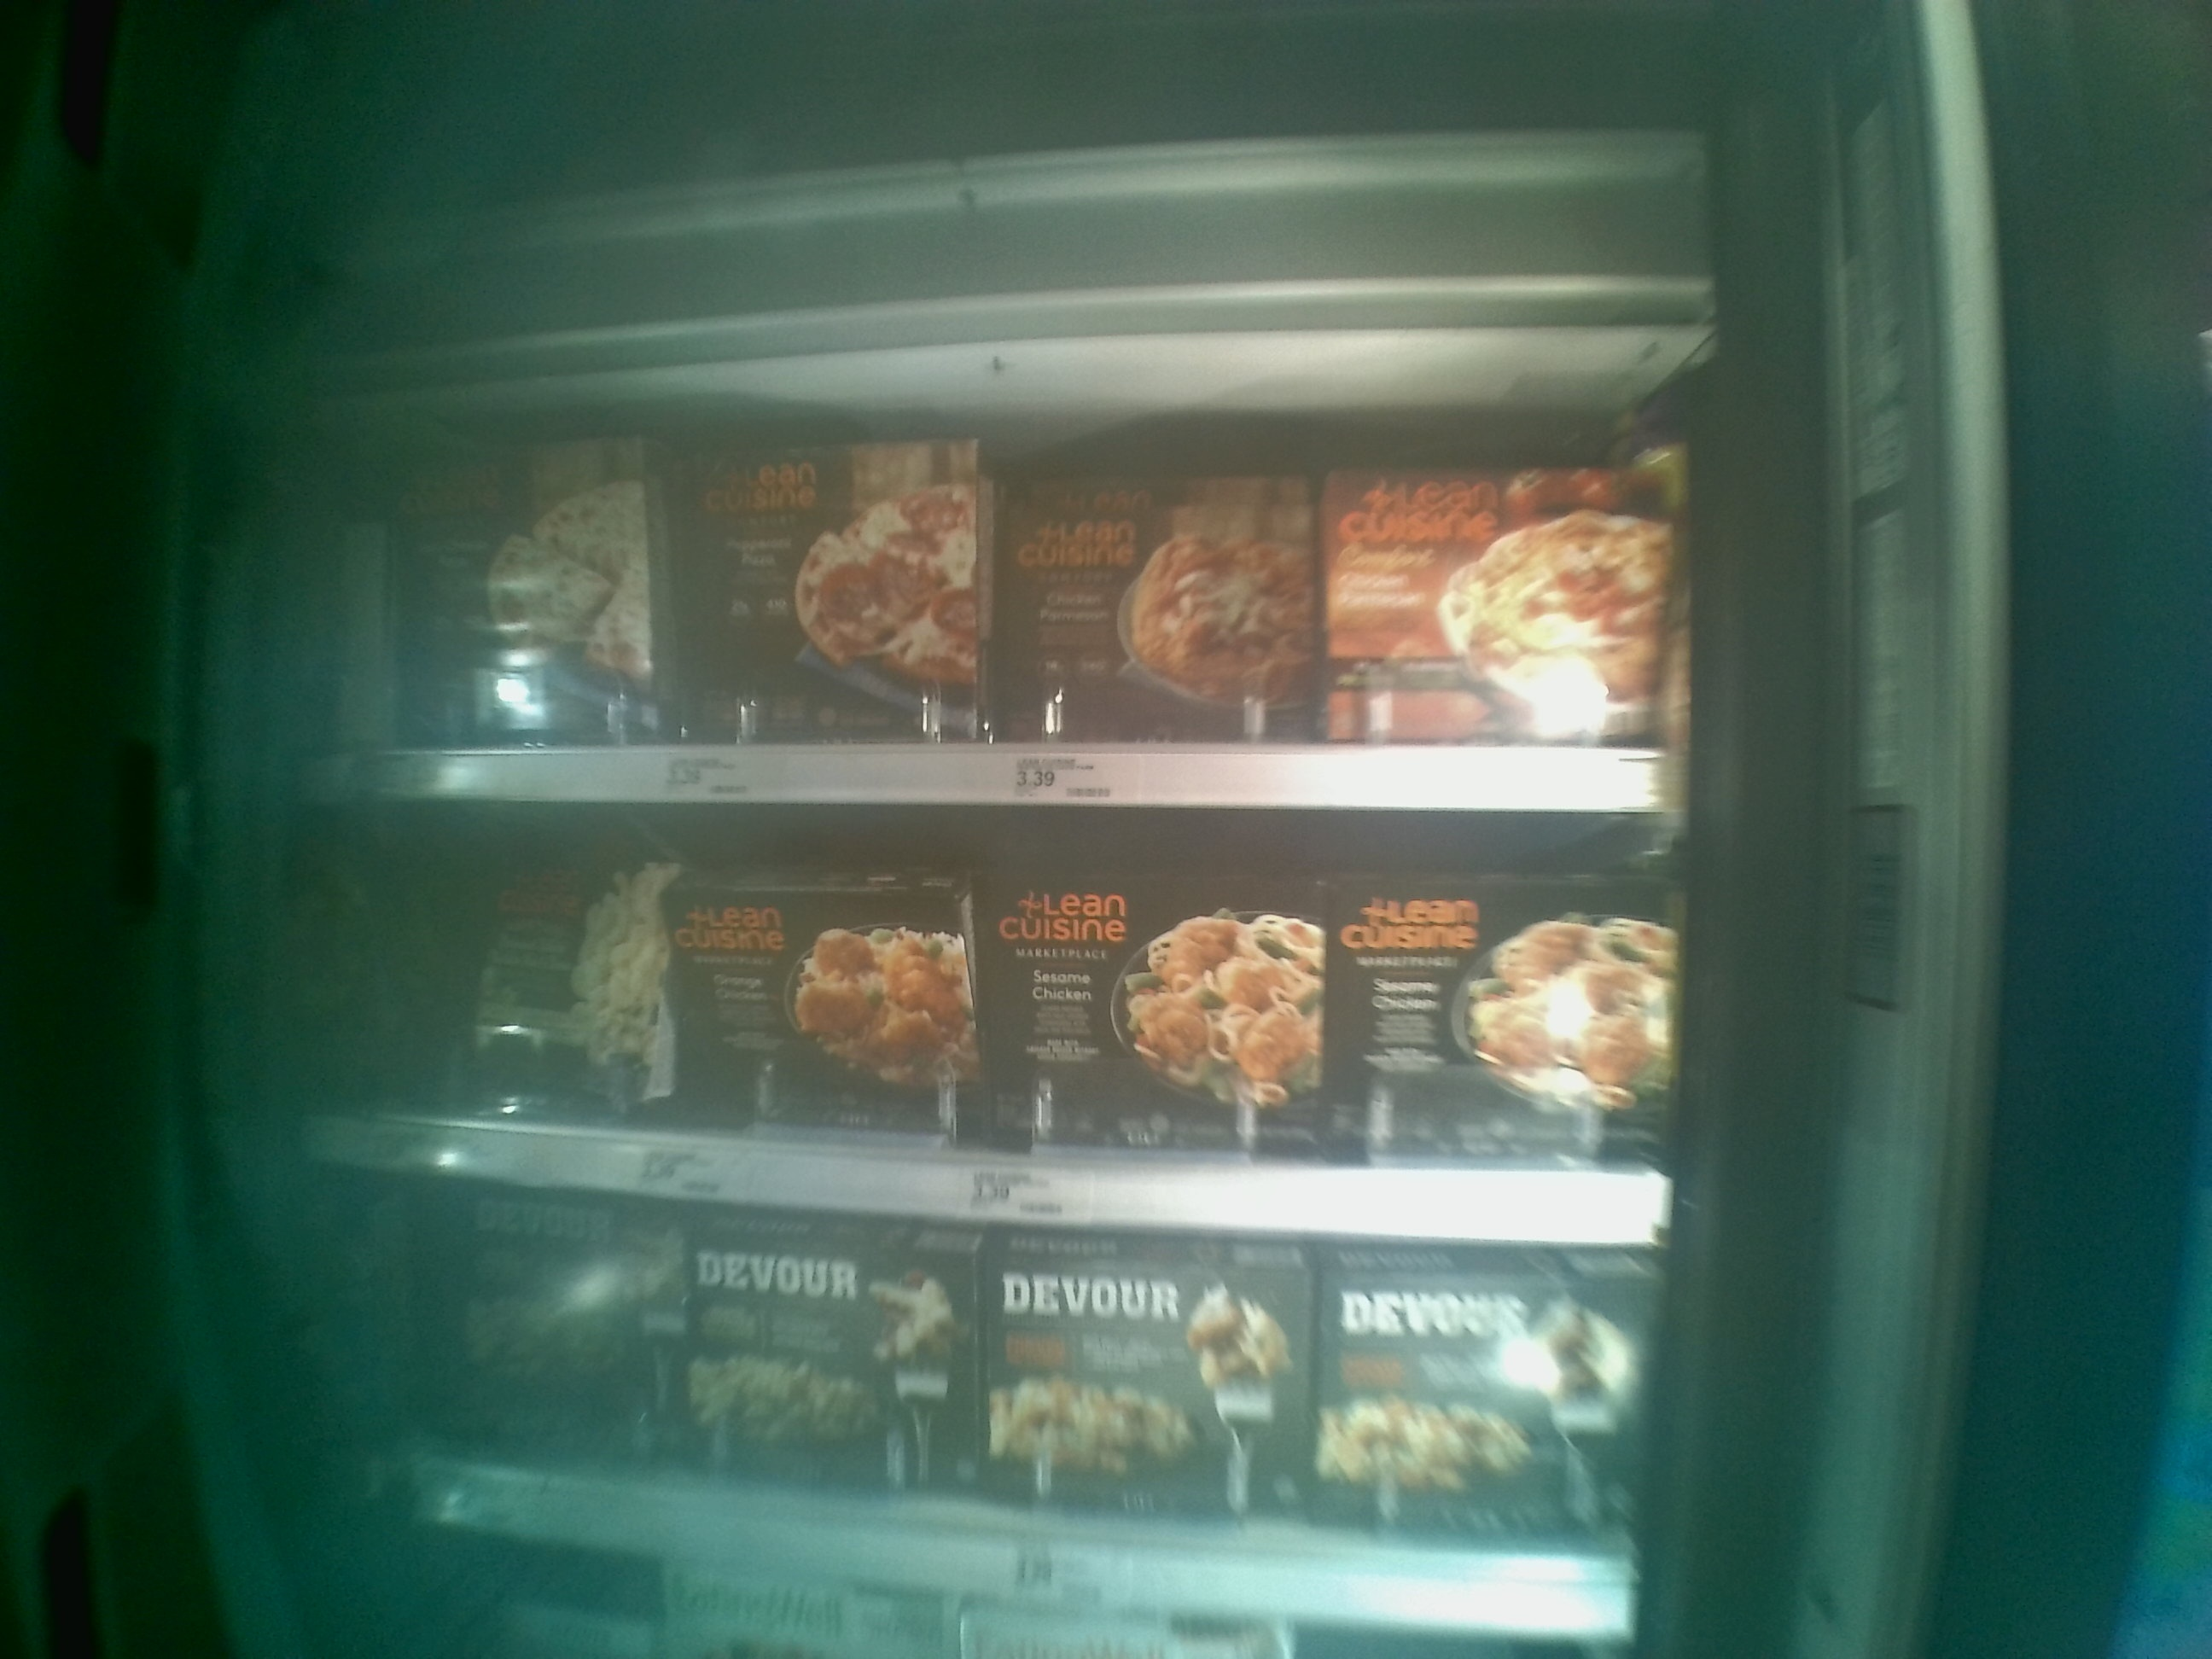shelf: (324, 350, 1662, 812), (307, 809, 1669, 1248)
